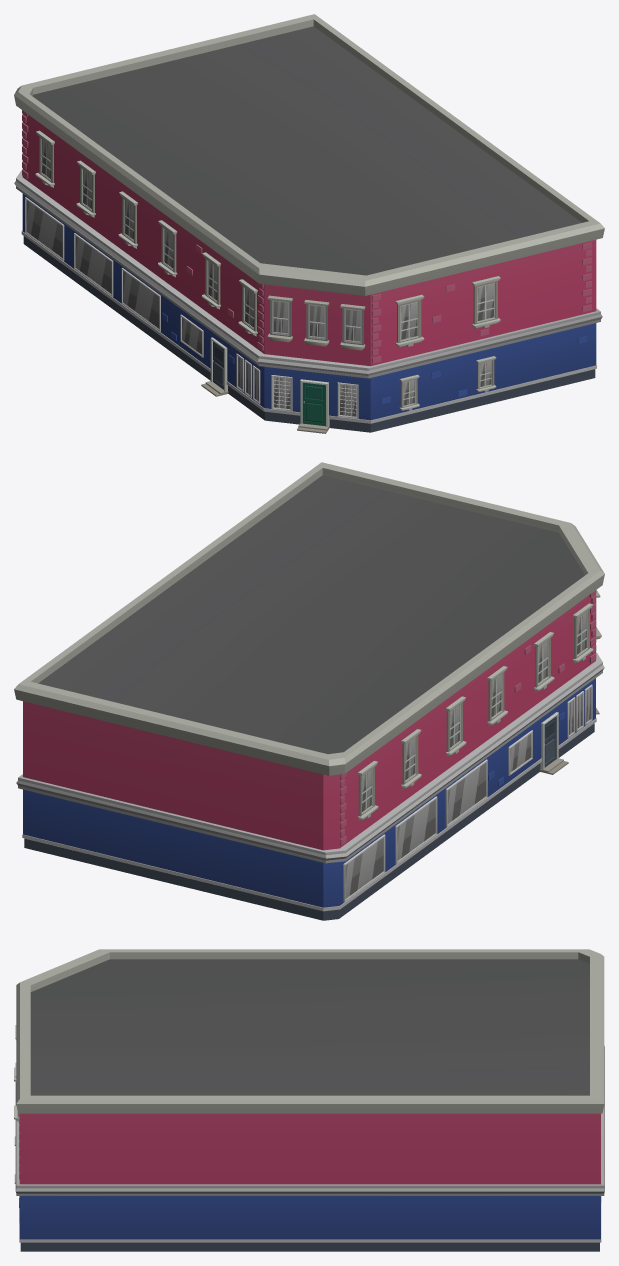
Rendered from Building_25_11_C.glb.
3 views of the same model, one above another, from view 1: azimuth 30°, elevation 25°; view 2: azimuth 150°, elevation 25°; view 3: azimuth 270°, elevation 25° (orthographic). The views are drawn at different scales.
Visible parts, largest first — view 1: Building_25_11_C; view 2: Building_25_11_C; view 3: Building_25_11_C.
Part boxes in pixels (box(x1,y1,x2,y2)): Building_25_11_C: box(14, 14, 604, 433); Building_25_11_C: box(14, 462, 604, 920); Building_25_11_C: box(14, 949, 604, 1251).
Bounding box in the file's own units: 16.83 × 7.93 × 27.29.
3 materials, 3 textured.
